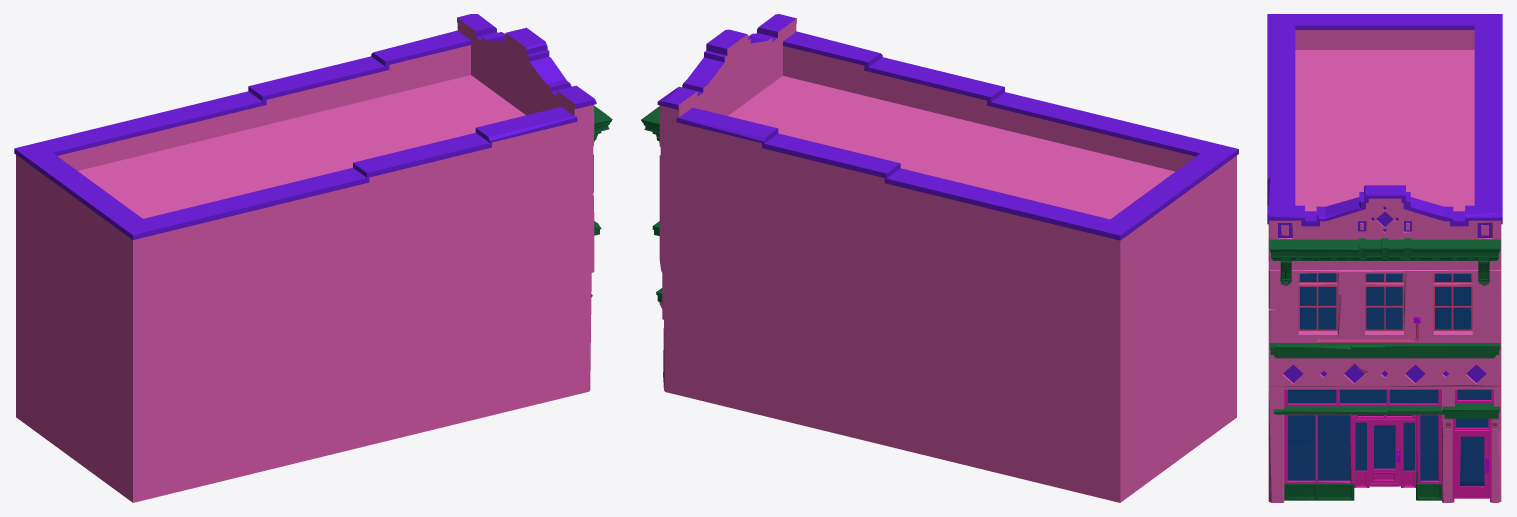
File: Backhill_Building03.fbx
3 renders of one model, left to right at view 1: azimuth 30°, elevation 25°; view 2: azimuth 150°, elevation 25°; view 3: azimuth 270°, elevation 25°, orthographic.
Visible parts, largest first — view 1: SM_Backhill_Building_02.mo; view 2: SM_Backhill_Building_02.mo; view 3: SM_Backhill_Building_02.mo.
Part boxes in pixels (x1,y1,x2,y2): SM_Backhill_Building_02.mo: (14,14,612,502); SM_Backhill_Building_02.mo: (641,14,1238,502); SM_Backhill_Building_02.mo: (1267,14,1502,502).
Bounding box in the file's own units: 1687 × 1042 × 718.
